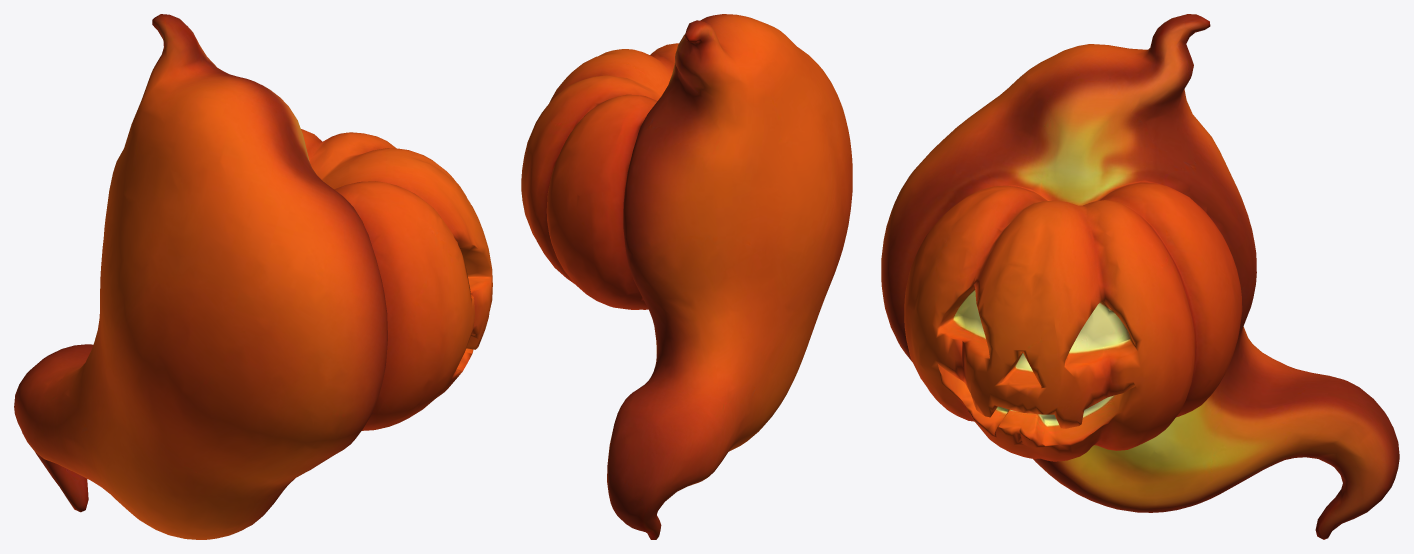
The model's file is jack.glb.
The picture shows the model from 3 angles, left to right: view 1: azimuth 30°, elevation 25°; view 2: azimuth 150°, elevation 25°; view 3: azimuth 270°, elevation 25°; orthographic projection. The views are drawn at different scales.
Visible parts, largest first — view 1: tripo_node_362383f6-7981-49e7-a318-99e4a16e4311; view 2: tripo_node_362383f6-7981-49e7-a318-99e4a16e4311; view 3: tripo_node_362383f6-7981-49e7-a318-99e4a16e4311.
Part boxes in pixels (<box>): tripo_node_362383f6-7981-49e7-a318-99e4a16e4311: <box>14,14,492,539</box>; tripo_node_362383f6-7981-49e7-a318-99e4a16e4311: <box>521,14,852,539</box>; tripo_node_362383f6-7981-49e7-a318-99e4a16e4311: <box>881,14,1399,539</box>.
Size of the model in its own units: 0.659 by 1 by 0.8799.
1 material, 1 textured.
